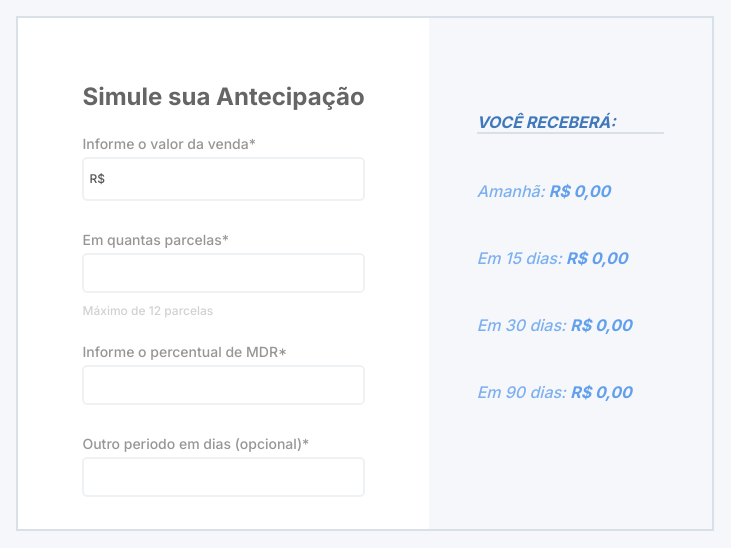
Test: Desafio 1 Test › Checking value error
In the number field with id "amout": x=234, y=179 x1=105 y1=159 x2=363 y2=199, type "100"
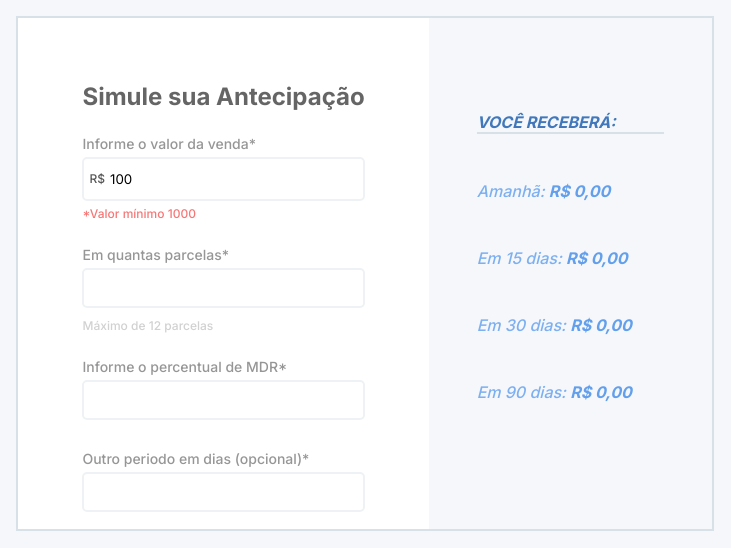
Expected: the text "*Valor mínimo 1000" is shown, x1=82 y1=206 x2=196 y2=220
